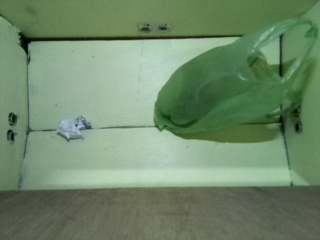paper: (56, 115, 94, 141)
plastic-bag: (153, 15, 316, 149)
